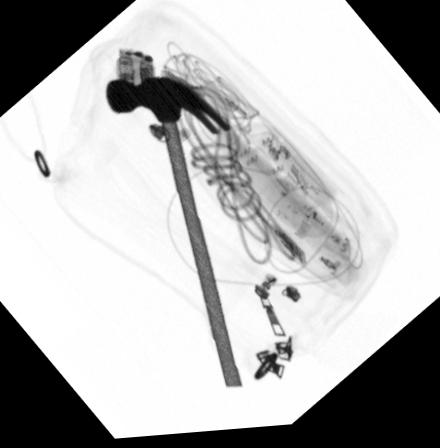Hammer: (103, 77, 245, 393)
